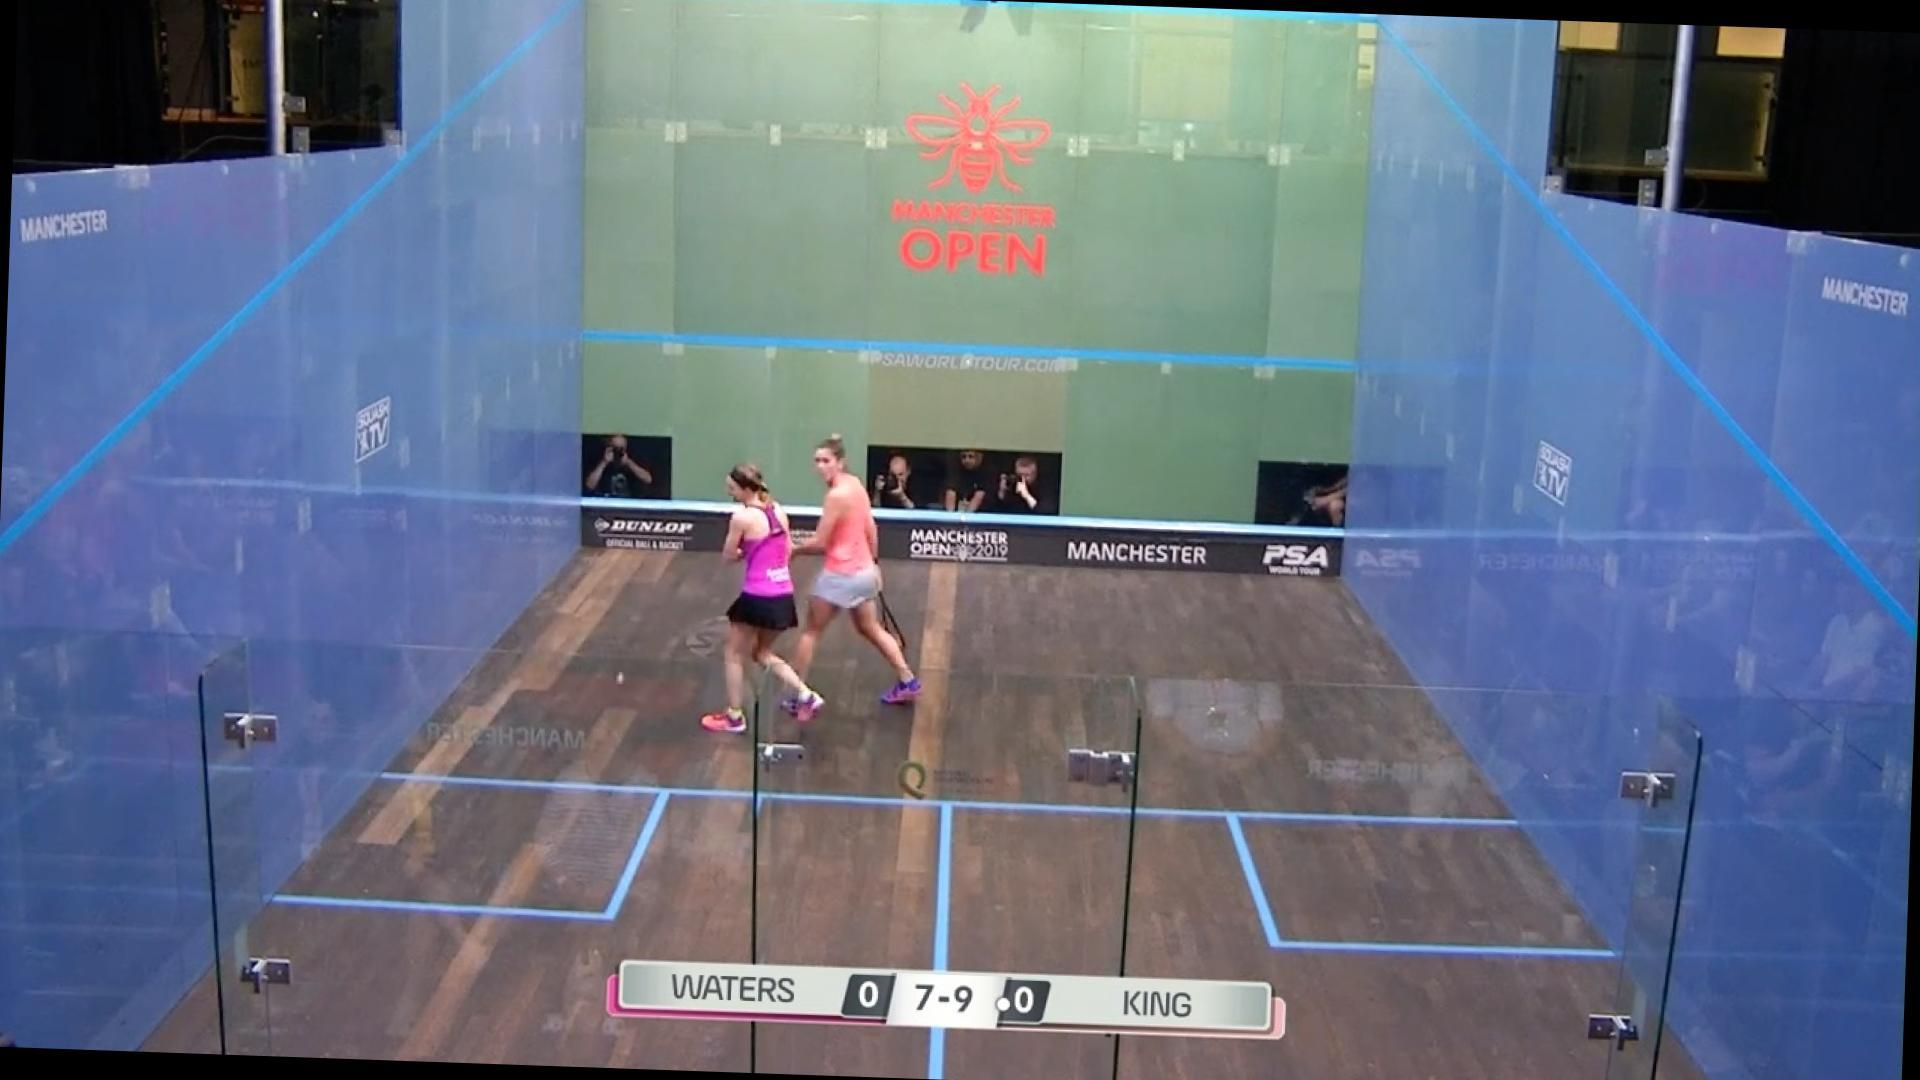Squash-Ball: (593, 650, 658, 707)
